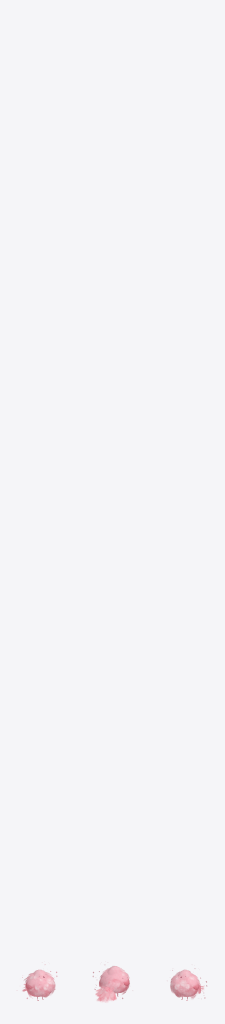
Rendered from watercolor_bird.glb.
The picture shows the model from 3 angles, left to right: view 1: azimuth 30°, elevation 25°; view 2: azimuth 150°, elevation 25°; view 3: azimuth 330°, elevation 25°; orthographic projection.
Parts seen in each view (by area): view 1: Fluff, Body; view 2: Fluff, Tail, Body; view 3: Fluff, Body.
Boxes of the visible parts, bbox=[...] form: Fluff: bbox=[24, 972, 55, 996]; Body: bbox=[25, 969, 54, 996]; Fluff: bbox=[100, 968, 129, 992]; Tail: bbox=[95, 977, 116, 1002]; Body: bbox=[101, 966, 129, 993]; Fluff: bbox=[170, 970, 200, 996]; Body: bbox=[170, 969, 199, 996].
Size of the model in its own units: 0.4801 by 9.78 by 0.3988.
5 materials, 5 textured.
